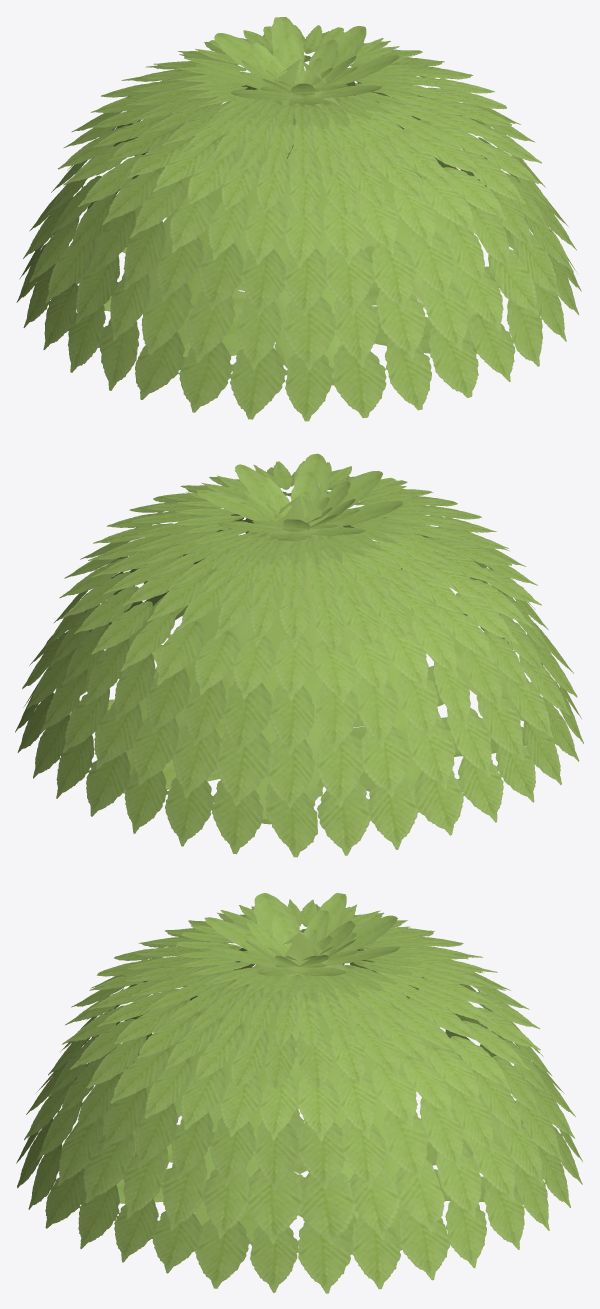
File: cloveyBush-03.fbx
The picture shows the model from 3 angles, top to bottom: view 1: azimuth 30°, elevation 25°; view 2: azimuth 150°, elevation 25°; view 3: azimuth 270°, elevation 25°; orthographic projection.
Visible parts, largest first — view 1: cloveyBush_03; view 2: cloveyBush_03; view 3: cloveyBush_03.
Part boxes in pixels (box(x1,y1,x2,y2)): cloveyBush_03: box(16, 17, 581, 421); cloveyBush_03: box(15, 453, 583, 857); cloveyBush_03: box(16, 893, 582, 1293).
Bounding box in the file's own units: 108 × 50.24 × 108.
